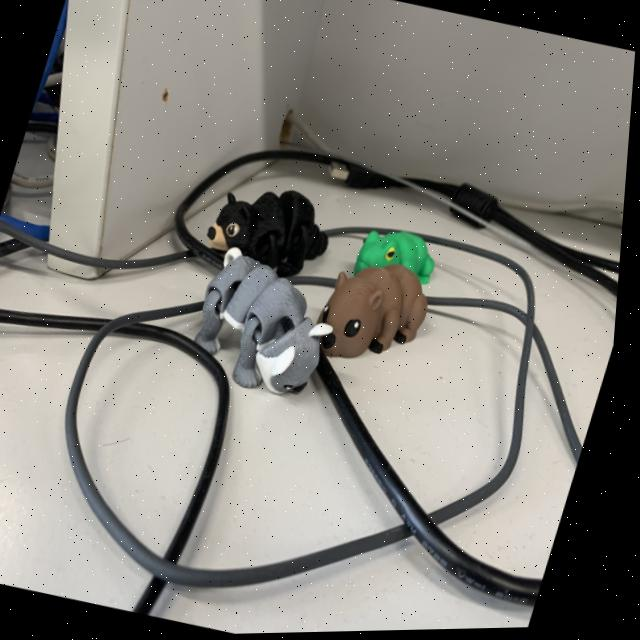frog: (336, 207, 454, 292)
koala: (170, 237, 351, 417)
tassie devil: (187, 163, 353, 296)
wombat: (300, 244, 453, 384)
